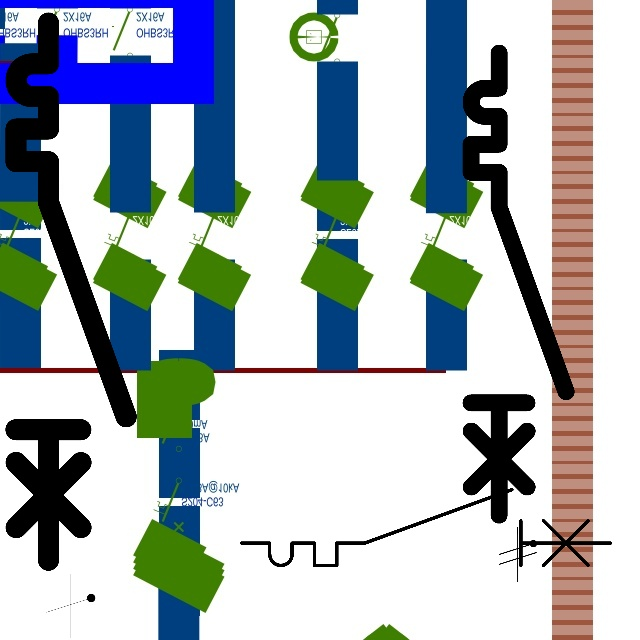interruptor_termomagnetico: (2, 9, 140, 574), (459, 41, 578, 527), (232, 480, 620, 575)
